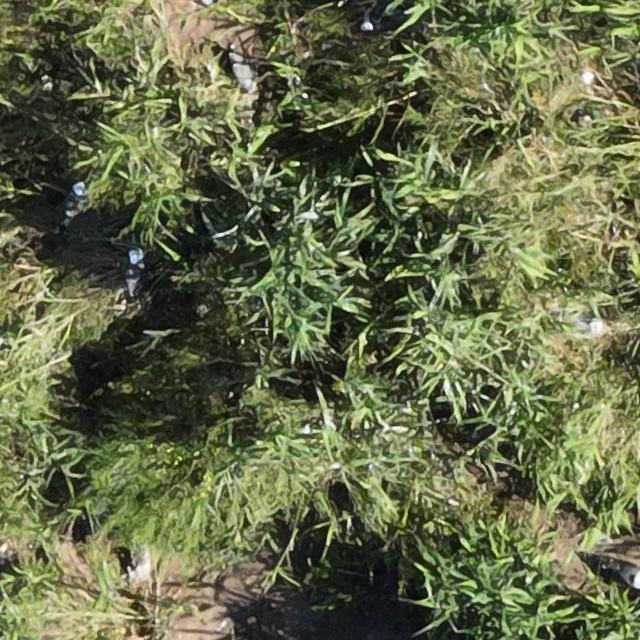umineko: (61, 181, 85, 229), (126, 244, 146, 295), (231, 56, 253, 90), (613, 564, 640, 588), (571, 314, 603, 334), (360, 16, 393, 32)
